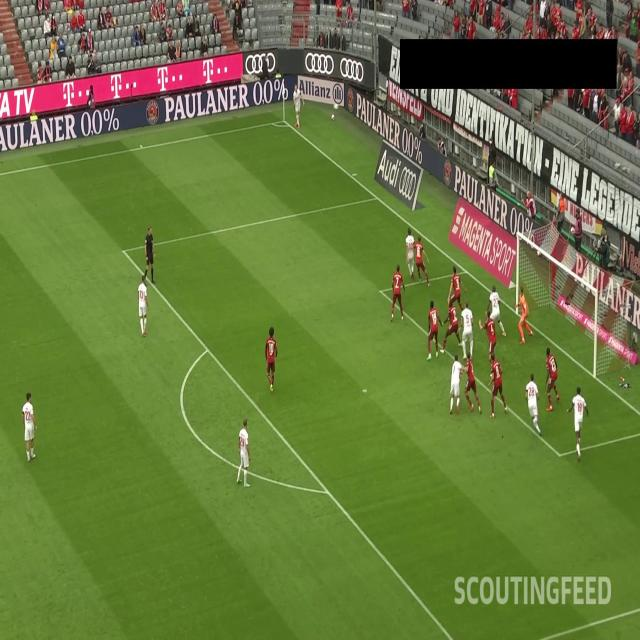ball: (333, 96, 339, 112)
player: (566, 384, 591, 459), (488, 349, 510, 418), (462, 350, 484, 418), (446, 355, 468, 419), (440, 298, 464, 353), (485, 284, 508, 338), (523, 373, 542, 436), (234, 417, 250, 491), (515, 284, 534, 346), (544, 345, 561, 414), (479, 308, 498, 368), (21, 392, 37, 462), (262, 322, 277, 394), (446, 262, 464, 315), (389, 262, 404, 324), (413, 233, 430, 287), (460, 300, 475, 360), (424, 298, 438, 361), (137, 275, 149, 339), (404, 226, 416, 275), (291, 80, 302, 131)
referee: (143, 223, 156, 287)
